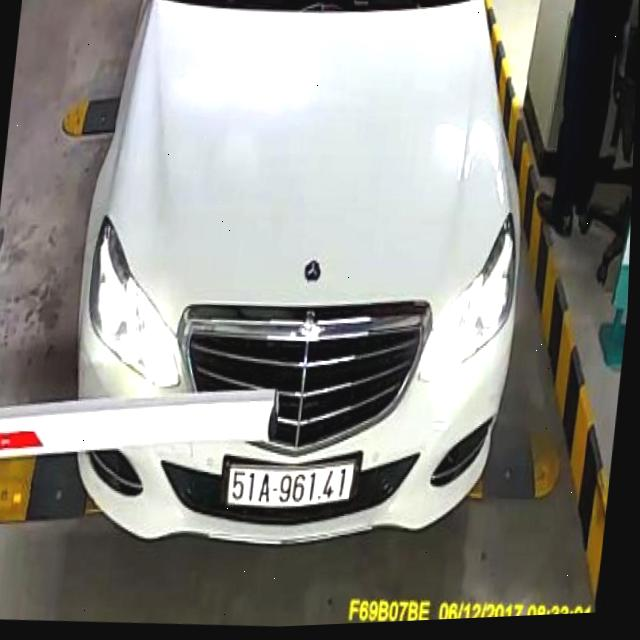car: (48, 0, 554, 575)
plate: (222, 448, 361, 516)
